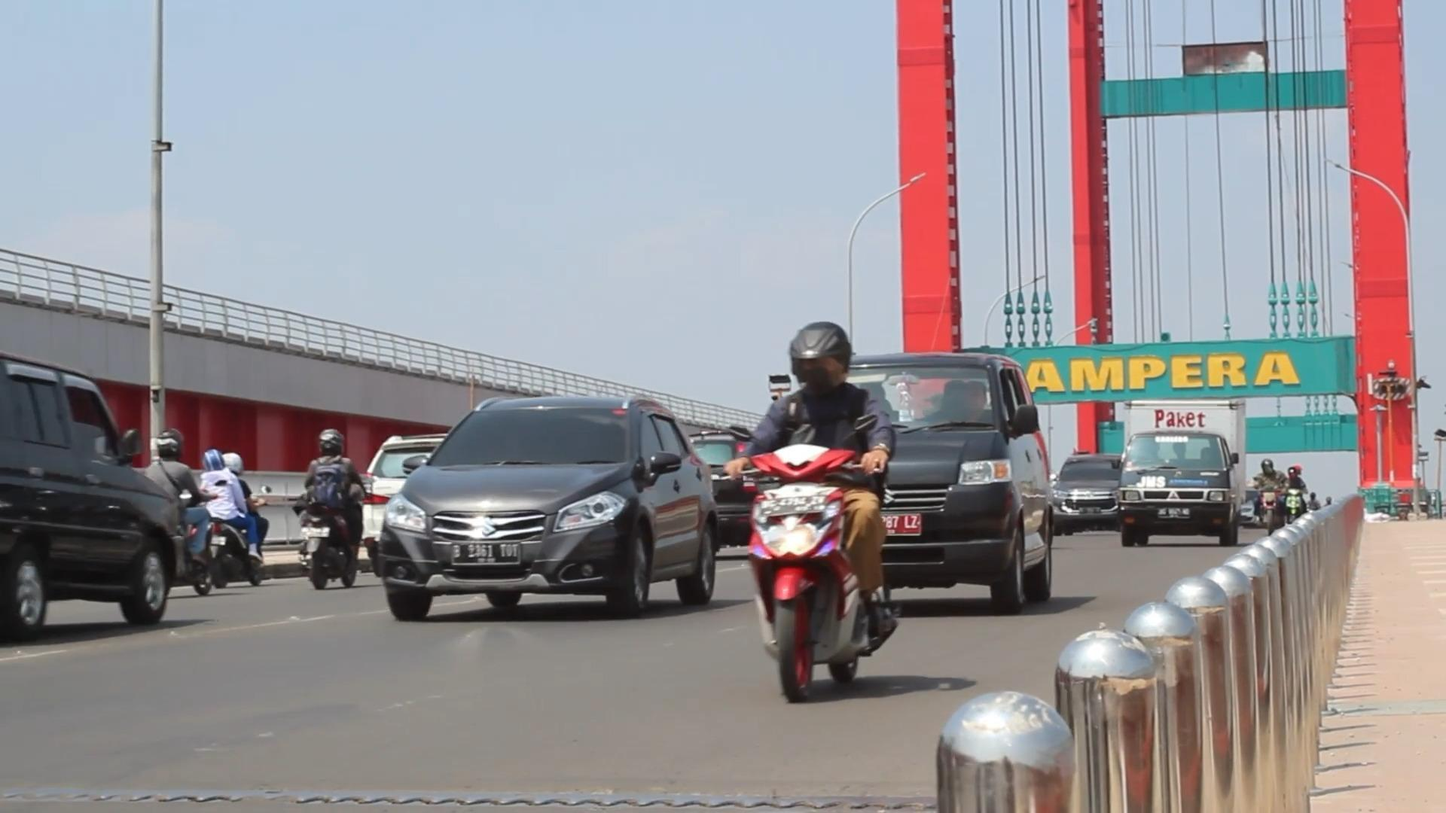Helmet: (782, 319, 861, 399), (316, 423, 349, 459), (199, 443, 227, 476), (218, 447, 246, 480)
bike: (724, 410, 901, 700), (294, 468, 372, 589), (205, 484, 274, 589)
rider: (724, 319, 897, 633), (194, 447, 262, 560), (303, 421, 364, 545)
